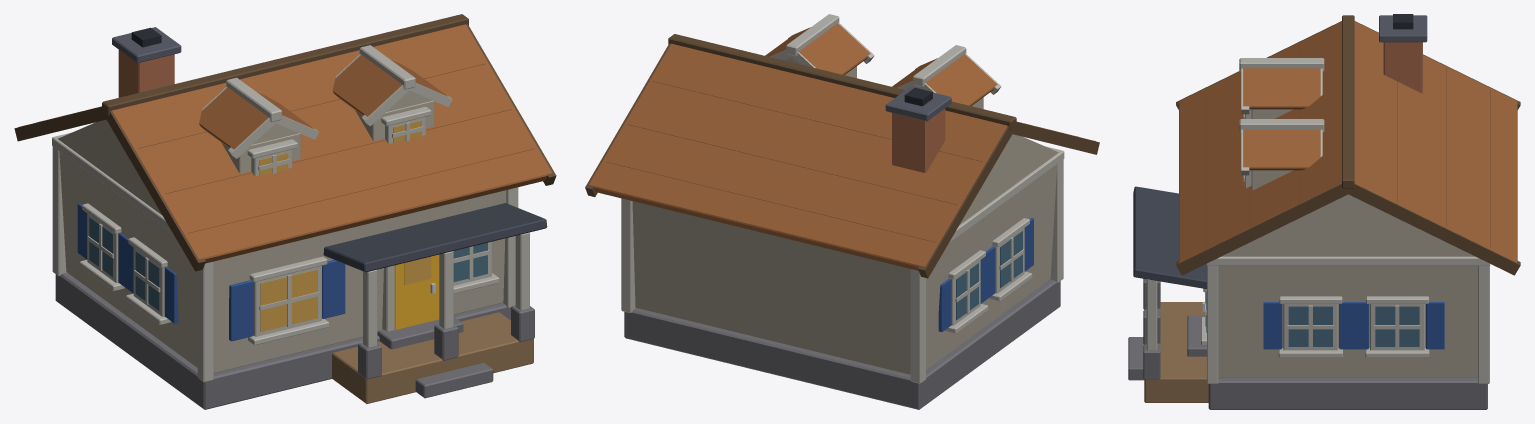
File: Stylized_House_Suburban_A.fbx
3 views of the same model, side by side, from view 1: azimuth 30°, elevation 25°; view 2: azimuth 150°, elevation 25°; view 3: azimuth 270°, elevation 25° (orthographic). The views are drawn at different scales.
Visible parts, largest first — view 1: Stylized_House_Suburban_A; view 2: Stylized_House_Suburban_A; view 3: Stylized_House_Suburban_A.
Boxes of the visible parts, box(x1,y1,x2,y2) form: Stylized_House_Suburban_A: box(14, 14, 556, 409); Stylized_House_Suburban_A: box(585, 14, 1099, 409); Stylized_House_Suburban_A: box(1128, 14, 1520, 409).
Size of the model in its own units: 6.76 by 5.18 by 6.79.
